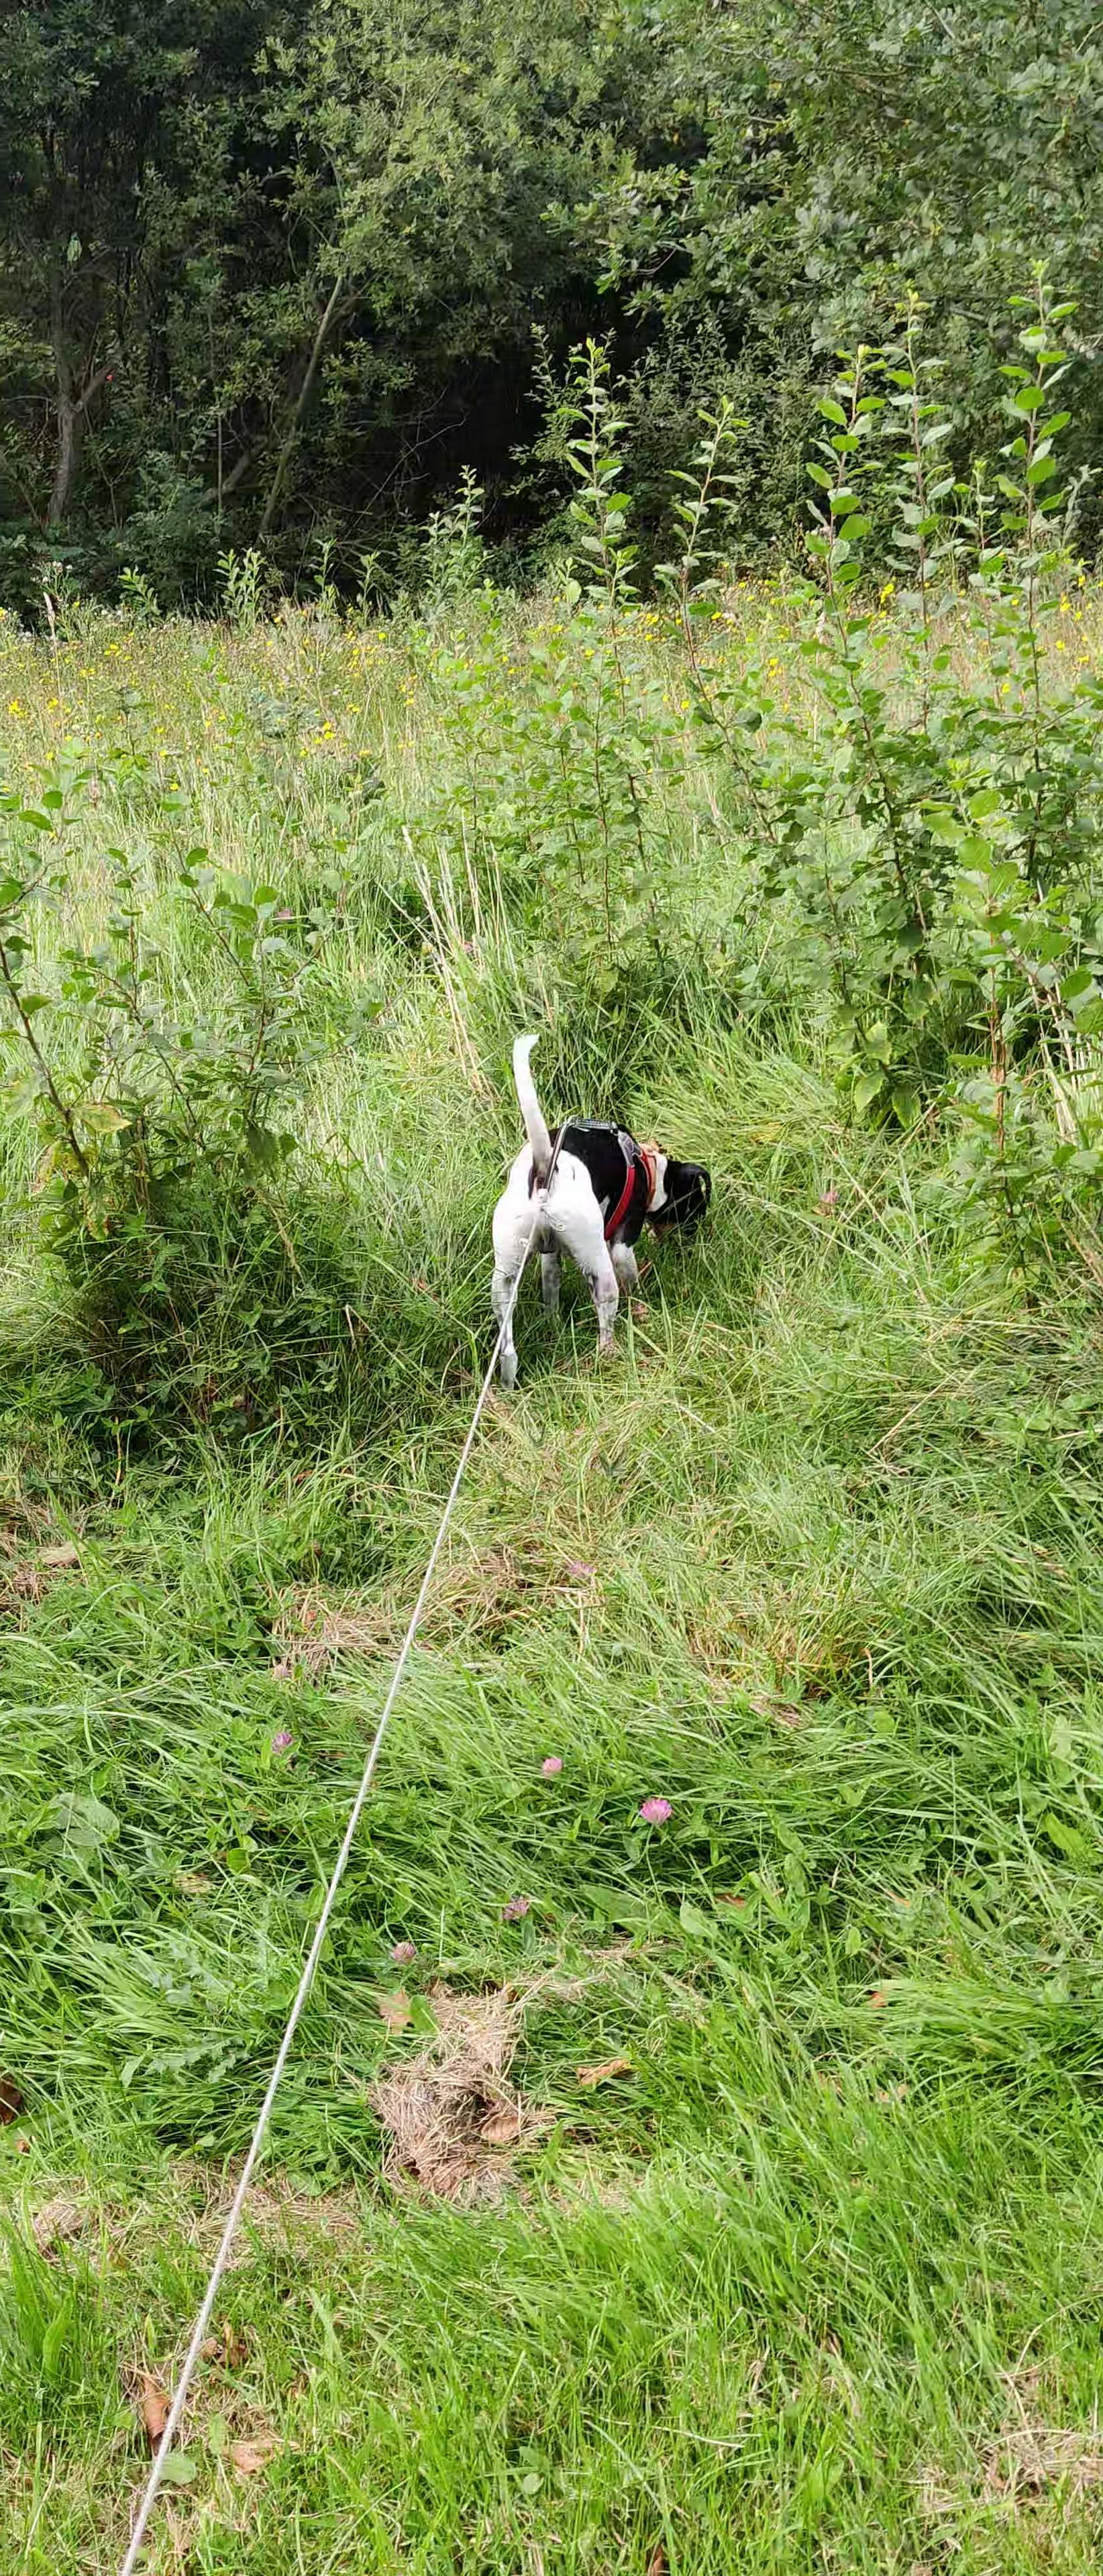Dog: (445, 1017, 723, 1396)
